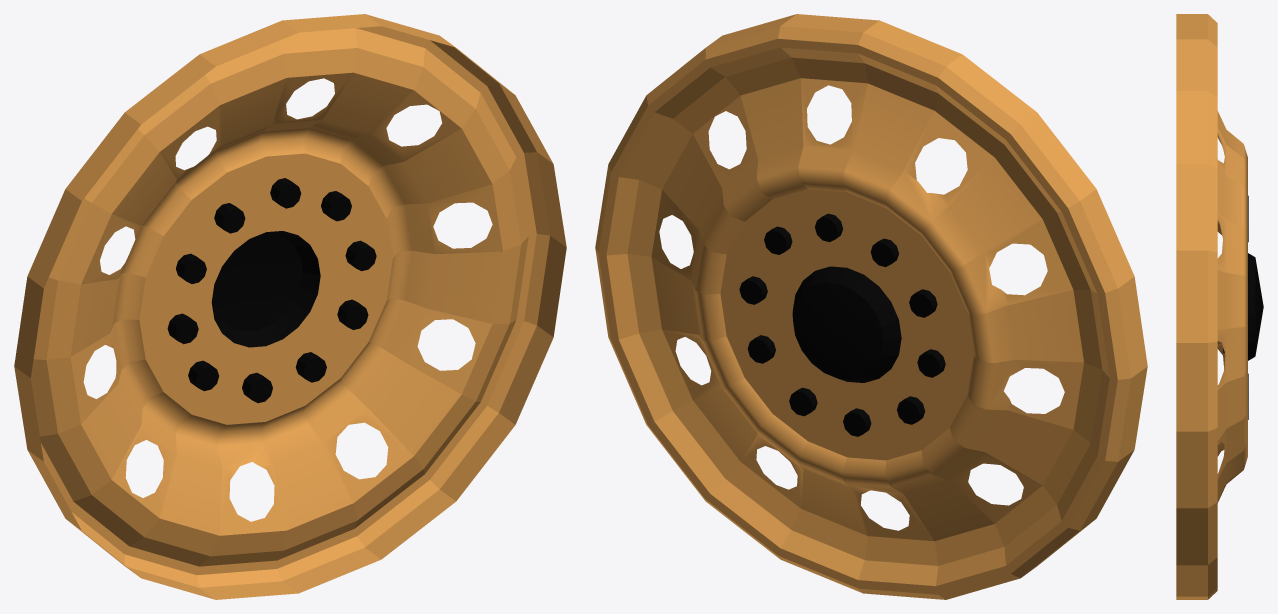
File: RIng3.fbx
3 views of the same model, side by side, from view 1: azimuth 30°, elevation 25°; view 2: azimuth 150°, elevation 25°; view 3: azimuth 270°, elevation 25° (orthographic). The views are drawn at different scales.
Visible parts, largest first — view 1: pCylinder21; view 2: pCylinder21; view 3: pCylinder21.
Part boxes in pixels (x1=…): pCylinder21: x1=14, y1=14, x2=566, y2=599; pCylinder21: x1=595, y1=14, x2=1147, y2=599; pCylinder21: x1=1176, y1=14, x2=1263, y2=599.
Bounding box in the file's own units: 0.0291 × 0.0291 × 0.00431.
